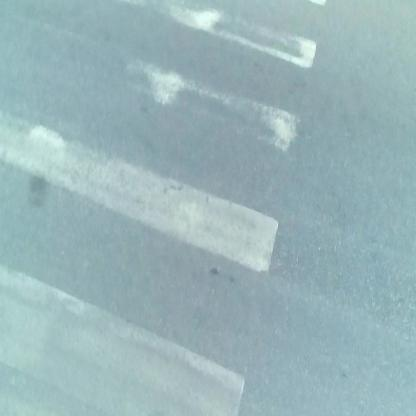crosswalk: (23, 8, 326, 406)
